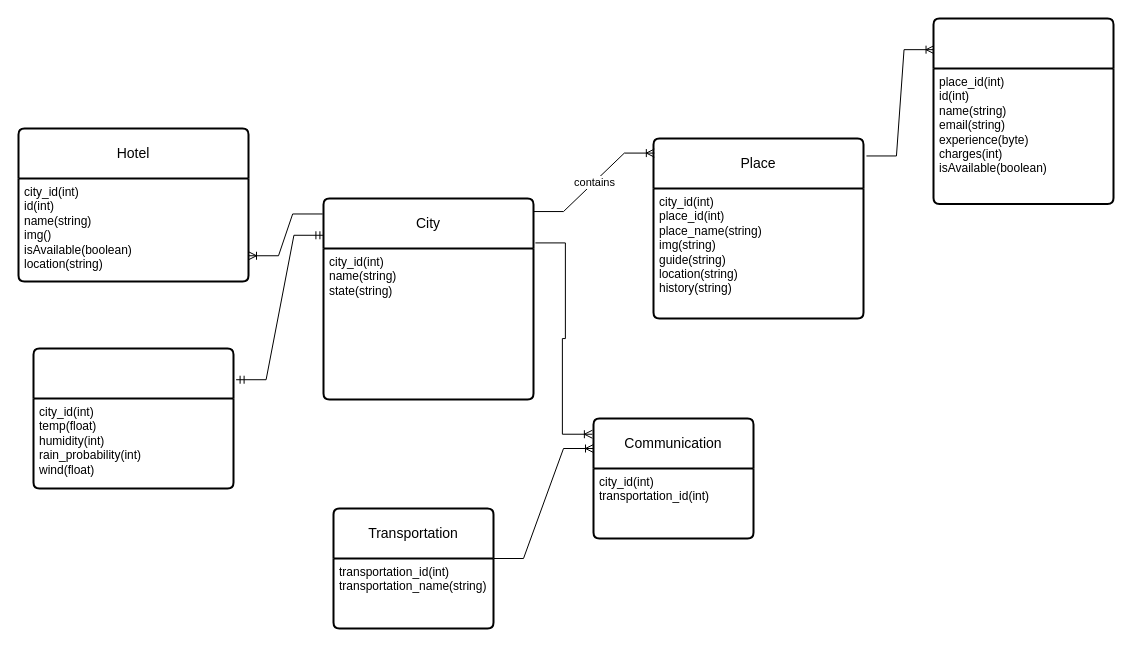
The diagram is 1131 pixels wide and 646 high, and some of its shapes have lost their labels. The box of each missing label's shape, as (x1, y1, x2, y2) in pixels:
TourGuide: (932, 17, 1114, 204)
Weather: (32, 347, 234, 489)
